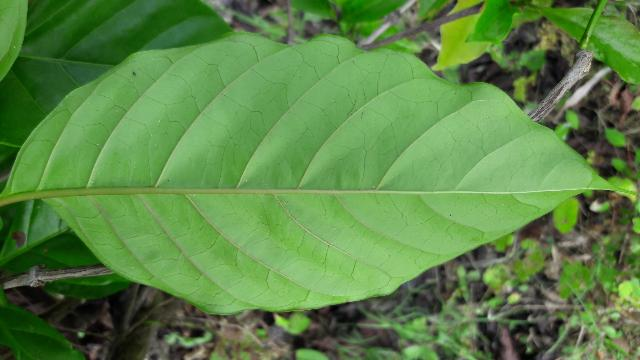healthy: (0, 43, 612, 316)
